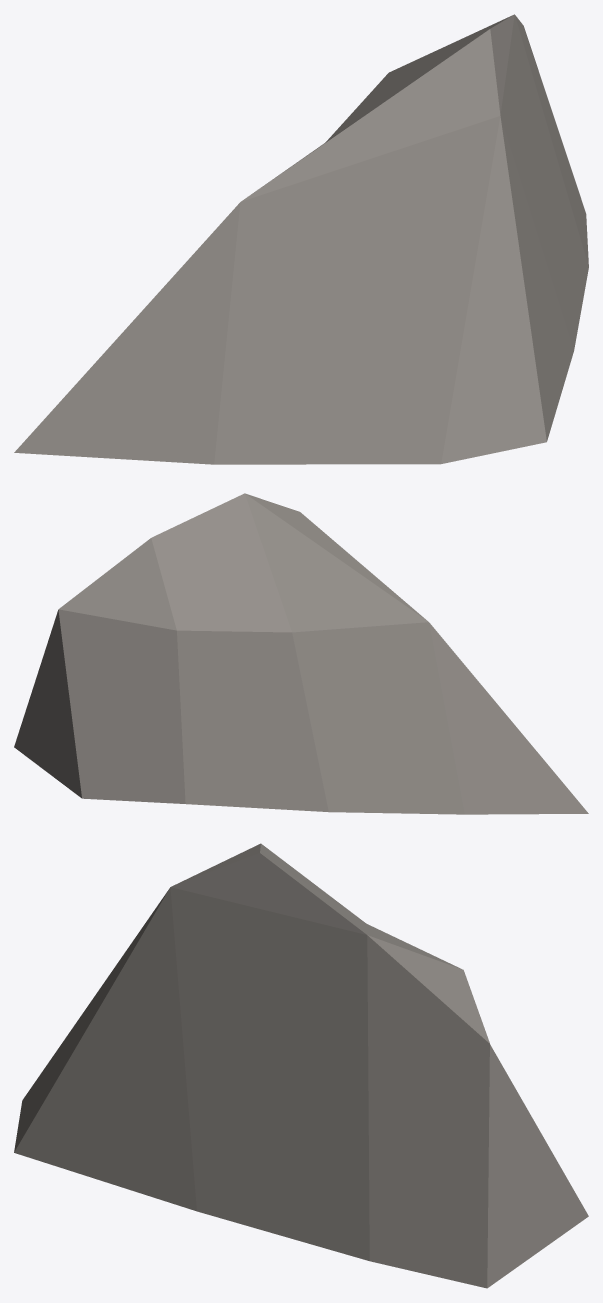
The model's file is Rock_09.glb.
3 views of the same model, one above another, from view 1: azimuth 30°, elevation 25°; view 2: azimuth 150°, elevation 25°; view 3: azimuth 270°, elevation 25° (orthographic). The views are drawn at different scales.
Parts seen in each view (by area): view 1: Rock_09; view 2: Rock_09; view 3: Rock_09.
Boxes of the visible parts, x1,y1,x2,y2 form: Rock_09: [14, 14, 588, 464]; Rock_09: [14, 493, 588, 814]; Rock_09: [14, 843, 588, 1288].
Size of what is drawn, in the model's own units: 1.07 by 0.4752 by 0.7487.
1 material, 1 textured.
